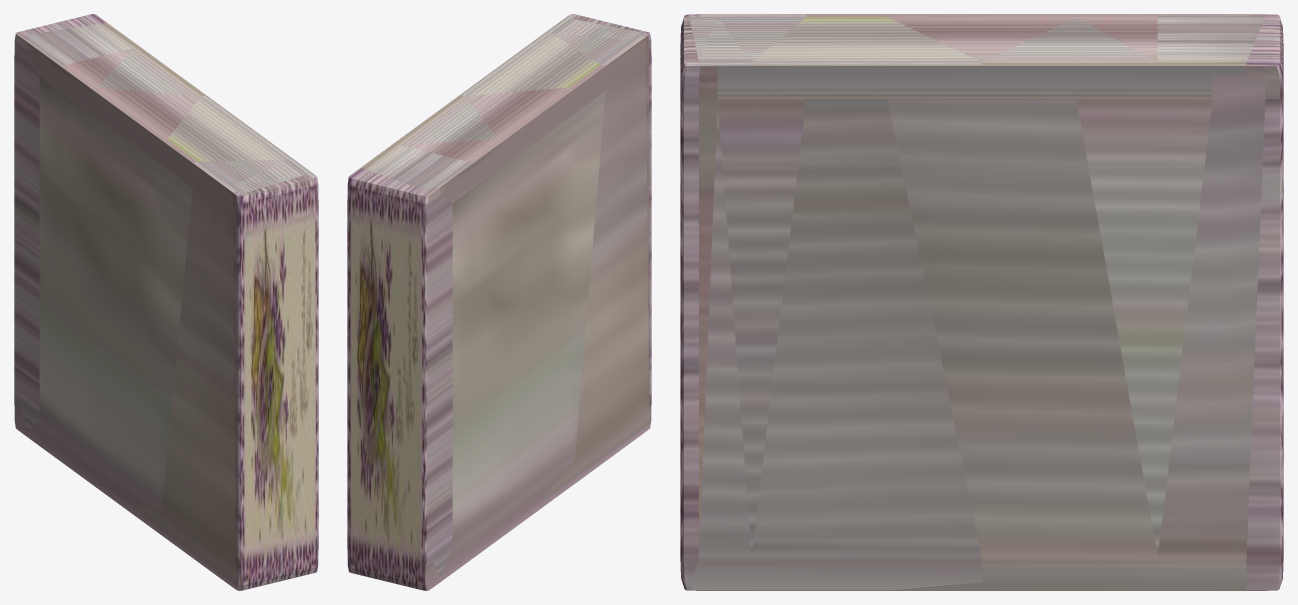
File: poster_2.glb
3 views of the same model, side by side, from view 1: azimuth 30°, elevation 25°; view 2: azimuth 150°, elevation 25°; view 3: azimuth 270°, elevation 25° (orthographic). The views are drawn at different scales.
Visible parts, largest first — view 1: poster_2; view 2: poster_2; view 3: poster_2.
Boxes of the visible parts, <box> form: poster_2: <box>14,14,318,590</box>; poster_2: <box>347,14,651,590</box>; poster_2: <box>680,14,1283,590</box>.
Size of the model in its own units: 0.2021 by 0.9545 by 0.9937.
1 material, 1 textured.
